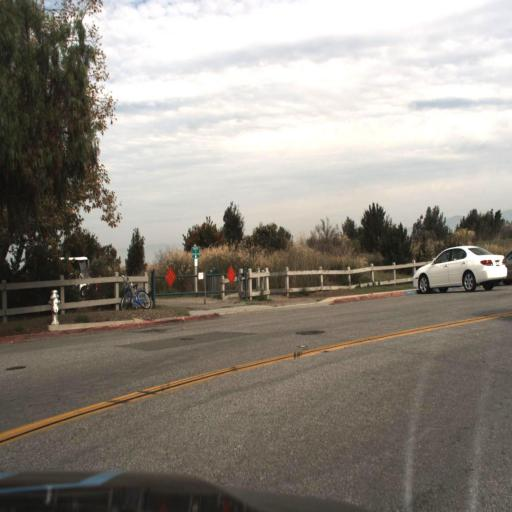car: (411, 244, 508, 298)
